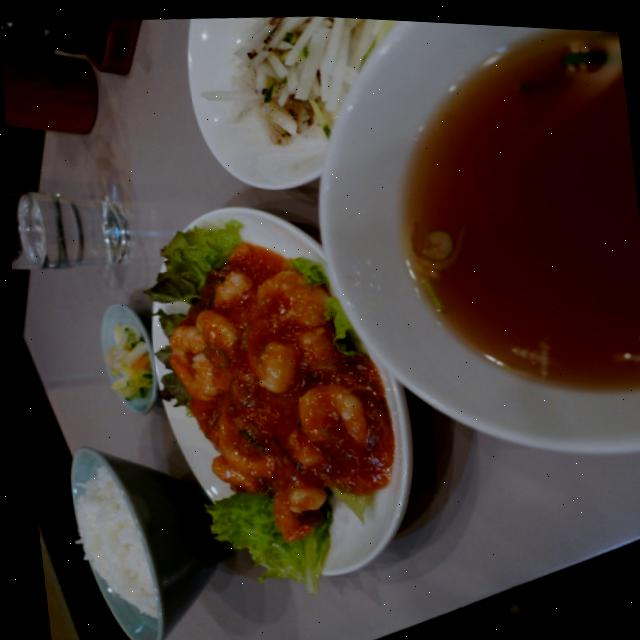汤锅炖物: (287, 12, 640, 479)
熟制海鲜: (126, 181, 439, 594)
米饭主食: (36, 428, 246, 640)
